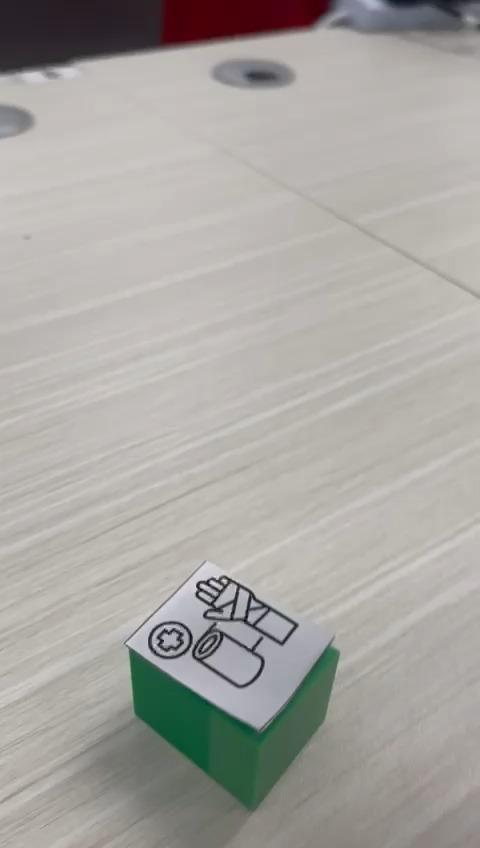Bandages: (125, 561, 341, 811)
